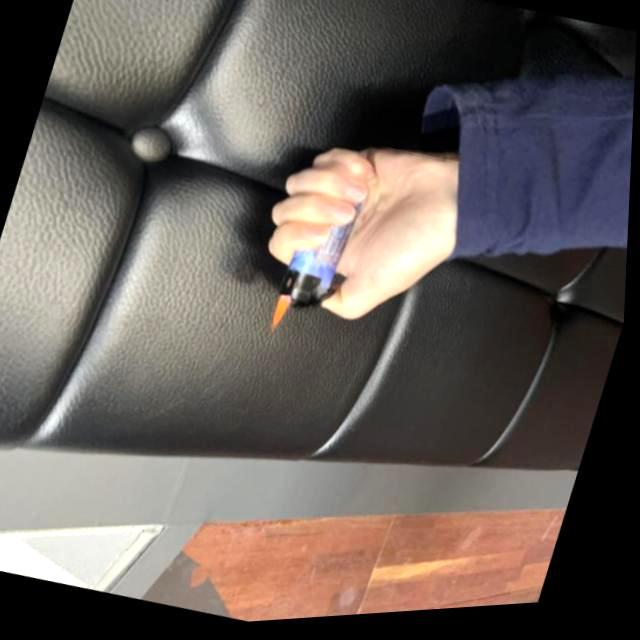fire: (271, 297, 297, 337)
